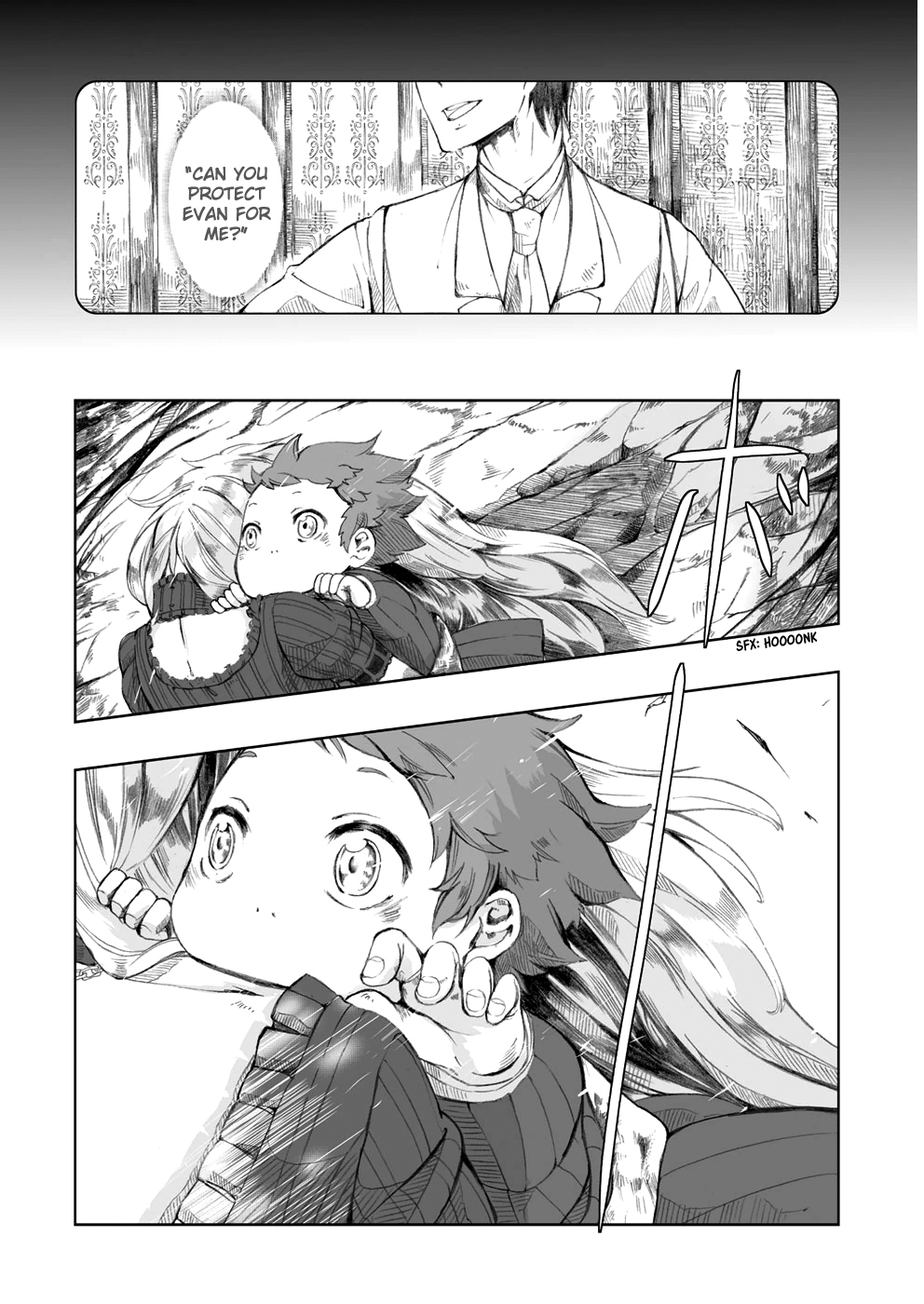bubble: (166, 97, 287, 299)
